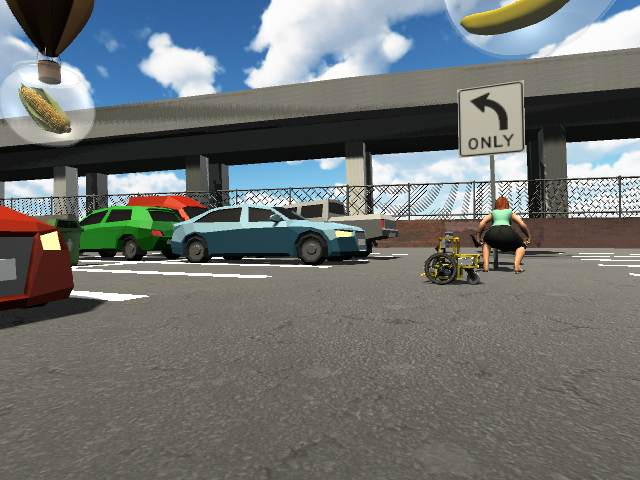arrow_left: (470, 91, 510, 130)
